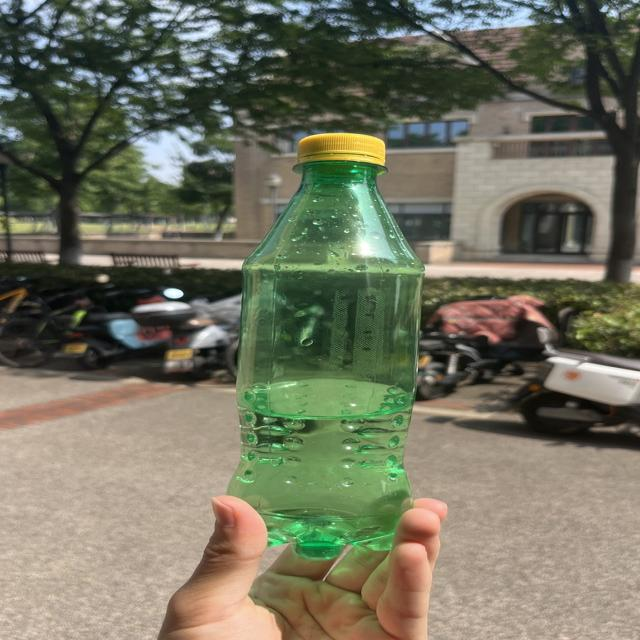medium: (228, 133, 422, 560)
